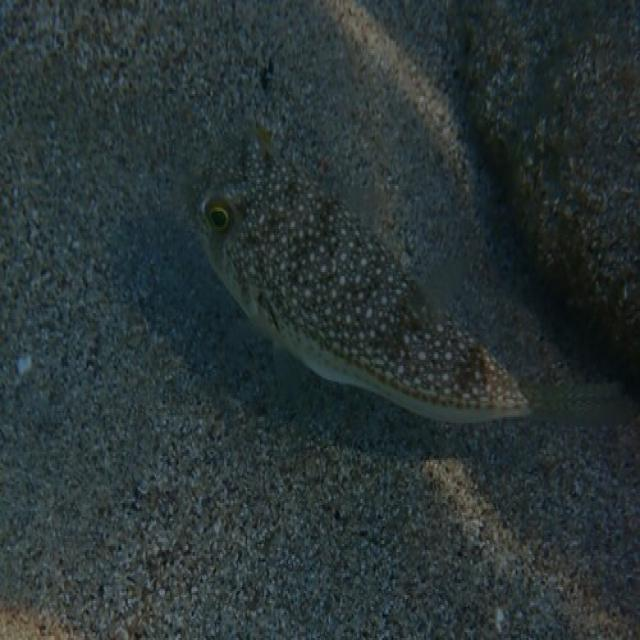Balik: (195, 134, 531, 422)
